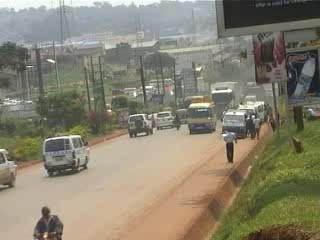Car: (123, 112, 155, 140), (153, 111, 175, 131), (172, 108, 188, 126)
Motorcycle: (33, 212, 65, 240), (171, 115, 181, 131)
